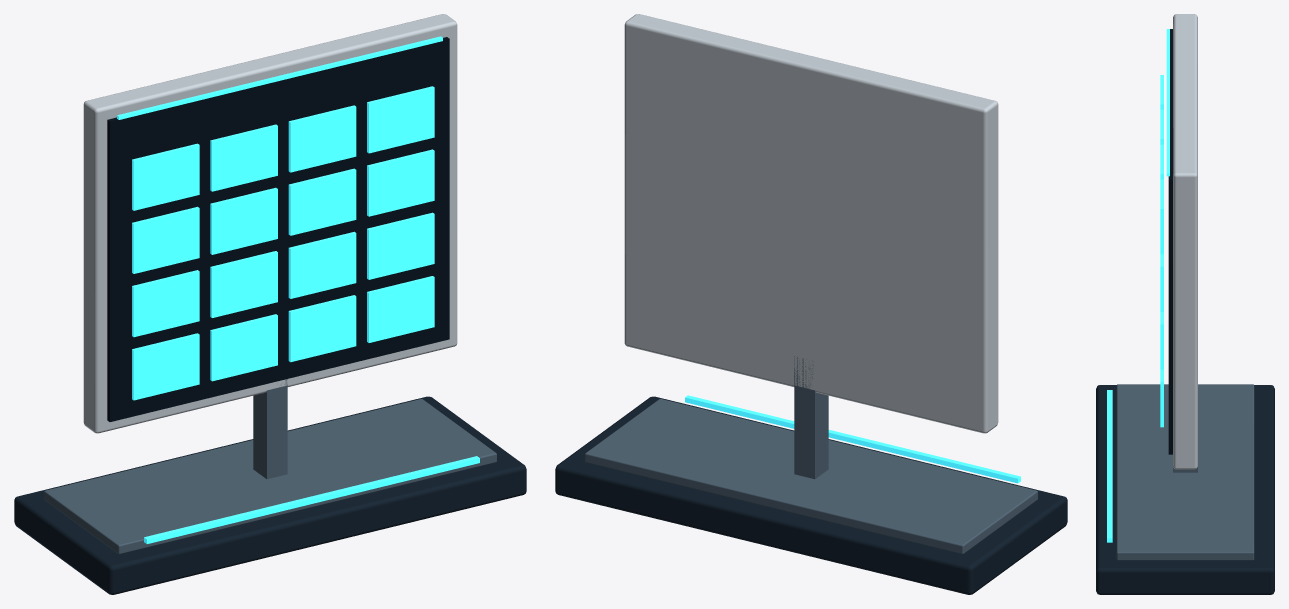
The model's file is matrix-board.glb.
The picture shows the model from 3 angles, left to right: view 1: azimuth 30°, elevation 25°; view 2: azimuth 150°, elevation 25°; view 3: azimuth 270°, elevation 25°; orthographic projection. The views are drawn at different scales.
Visible parts, largest first — view 1: display, inlay, base, frame, cell_r0_c2, cell_r1_c2, cell_r2_c2, cell_r3_c2, cell_r3_c0, cell_r0_c1, cell_r0_c3, cell_r2_c0 (+11 smaller); view 2: frame, inlay, base, support, status_strip; view 3: inlay, base, frame, display, status_strip, status, cell_r0_c3.
Boxes of the visible parts, x1=… form: display: x1=107, y1=37, x2=449, y2=421; inlay: x1=44, y1=399, x2=496, y2=553; base: x1=14, y1=396, x2=526, y2=594; frame: x1=83, y1=14, x2=457, y2=433; cell_r0_c2: x1=288, y1=105, x2=356, y2=172; cell_r1_c2: x1=288, y1=168, x2=356, y2=235; cell_r2_c2: x1=288, y1=231, x2=356, y2=298; cell_r3_c2: x1=288, y1=295, x2=356, y2=362; cell_r3_c0: x1=132, y1=333, x2=199, y2=400; cell_r0_c1: x1=210, y1=124, x2=277, y2=191; cell_r0_c3: x1=367, y1=86, x2=434, y2=153; cell_r2_c0: x1=132, y1=270, x2=199, y2=337; frame: x1=624, y1=14, x2=998, y2=433; inlay: x1=585, y1=399, x2=1037, y2=553; base: x1=555, y1=396, x2=1067, y2=594; support: x1=794, y1=356, x2=828, y2=479; status_strip: x1=685, y1=395, x2=1020, y2=483; inlay: x1=1116, y1=384, x2=1254, y2=560; base: x1=1096, y1=385, x2=1274, y2=594; frame: x1=1173, y1=14, x2=1197, y2=469; display: x1=1168, y1=29, x2=1172, y2=454; status_strip: x1=1107, y1=390, x2=1112, y2=542; status: x1=1166, y1=29, x2=1169, y2=176; cell_r0_c3: x1=1160, y1=179, x2=1163, y2=254.
Bounding box in the file's own units: 3.2 × 3.29 × 1.3.
